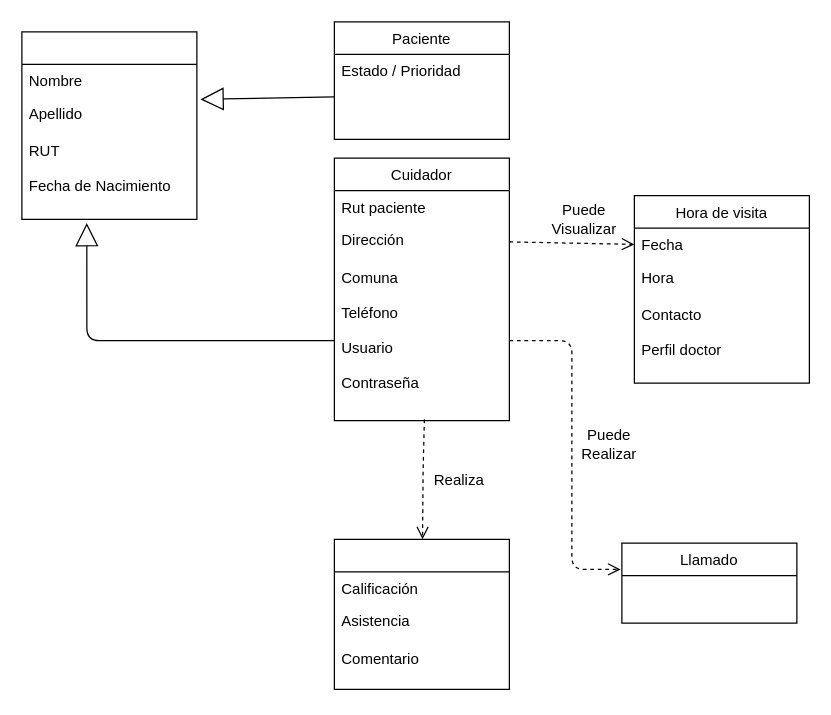
The diagram is 831 pixels wide and 715 high, and some of its shapes have lost their labels. The shapes that lost their labels are listed below. From the top down, each one's box as (x1, y1, x2, y2) in pixels, then its label:
(21, 31, 197, 219): Usuarios
(333, 538, 509, 689): Retroalimentación
